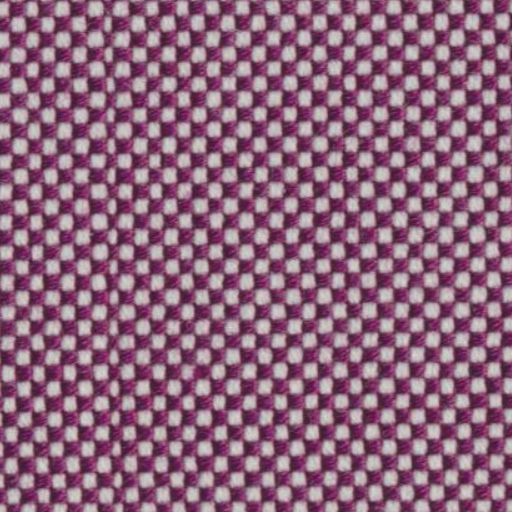TuoSha: (72, 10, 153, 494)
